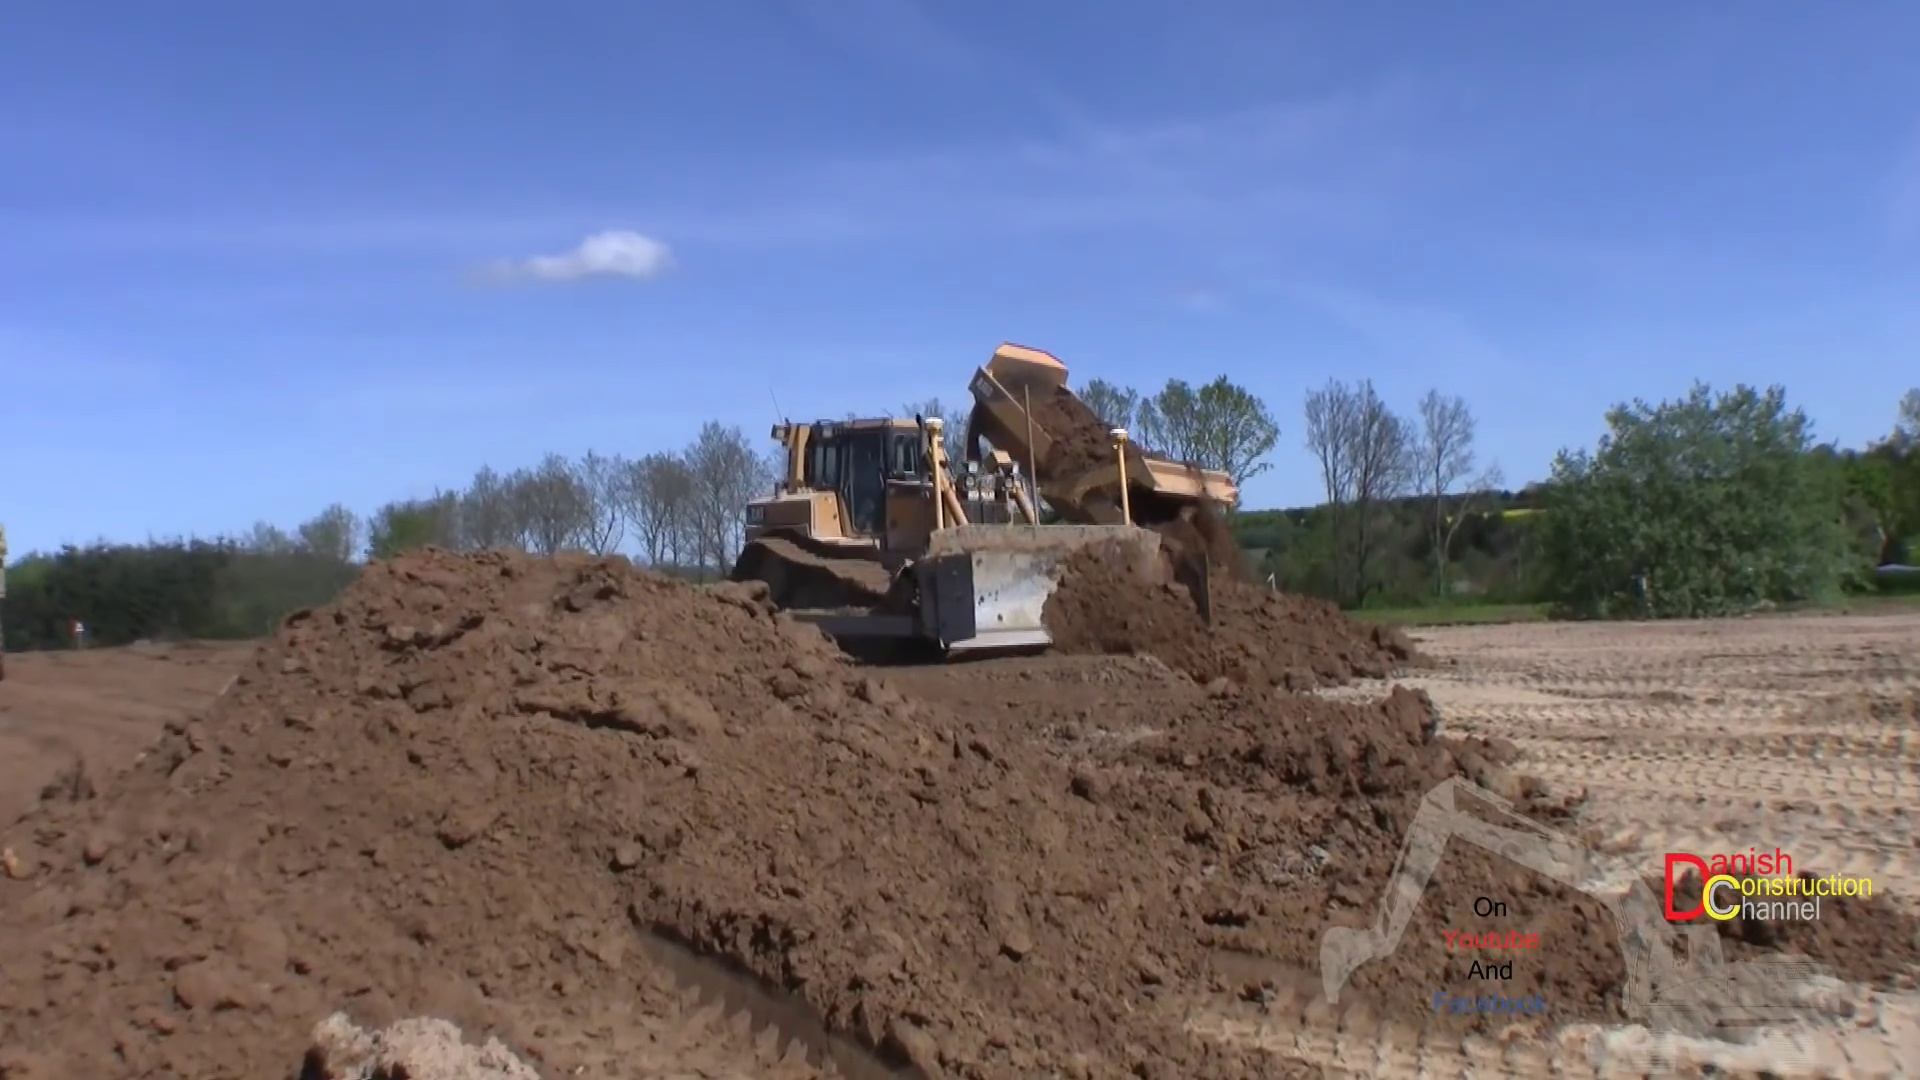bulldozer: (721, 407, 1164, 673)
dumper: (942, 342, 1250, 595)
